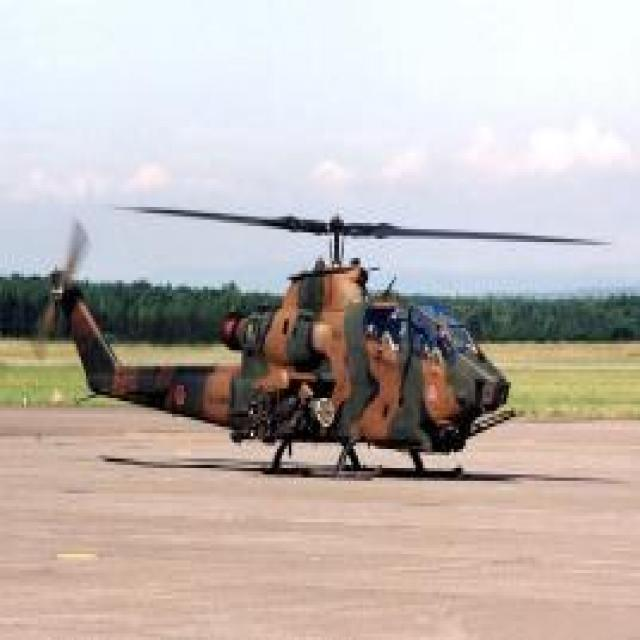MIL_HELO: (16, 187, 640, 508)
